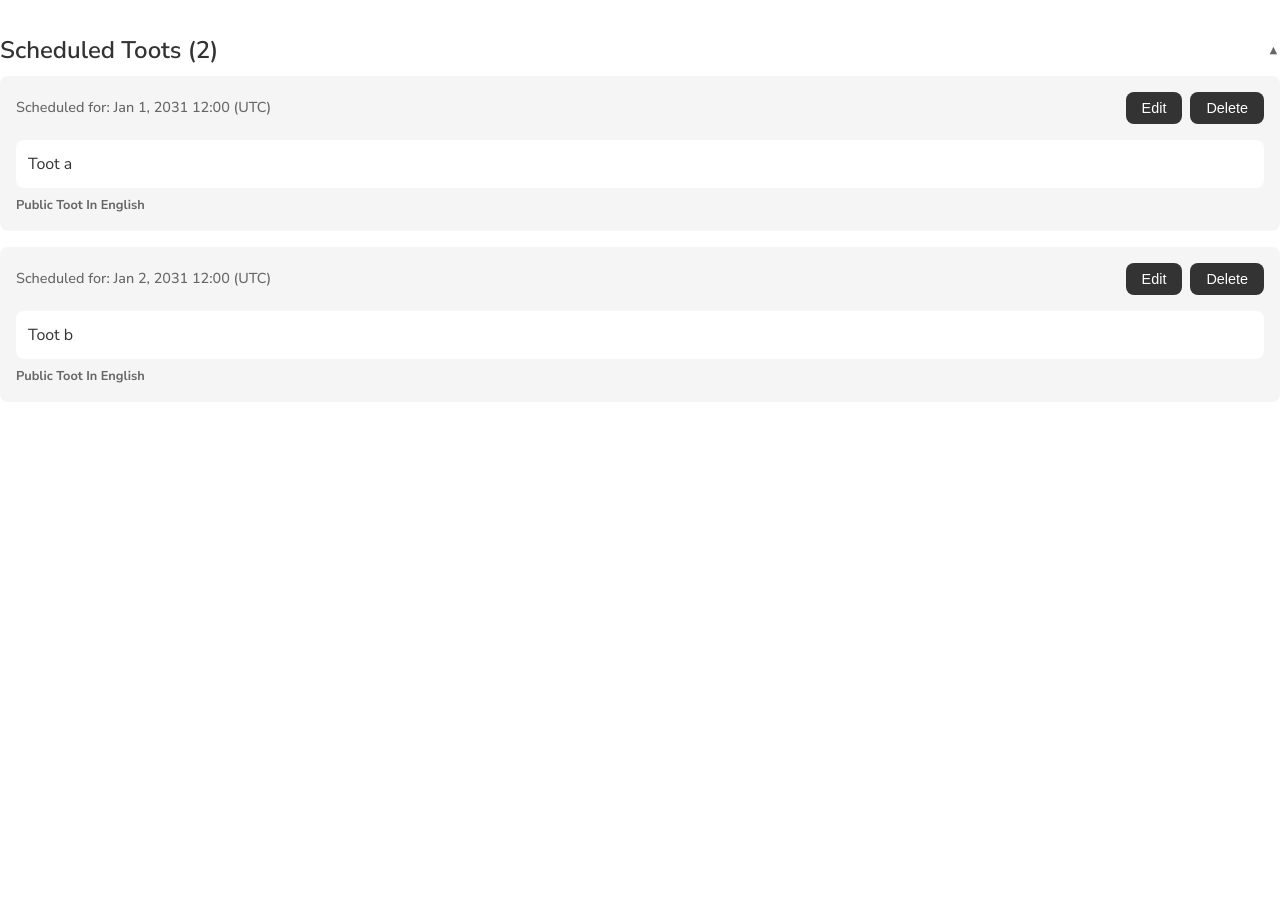
Test: ScheduledToots › with two toots › shows a failed deletion as an alert
Step 1. Click the button with class "delete-button" in the row of "Scheduled for: Jan 1, 2031 12:00 (UTC)" → (1227, 108), box [1190,92,1264,124]
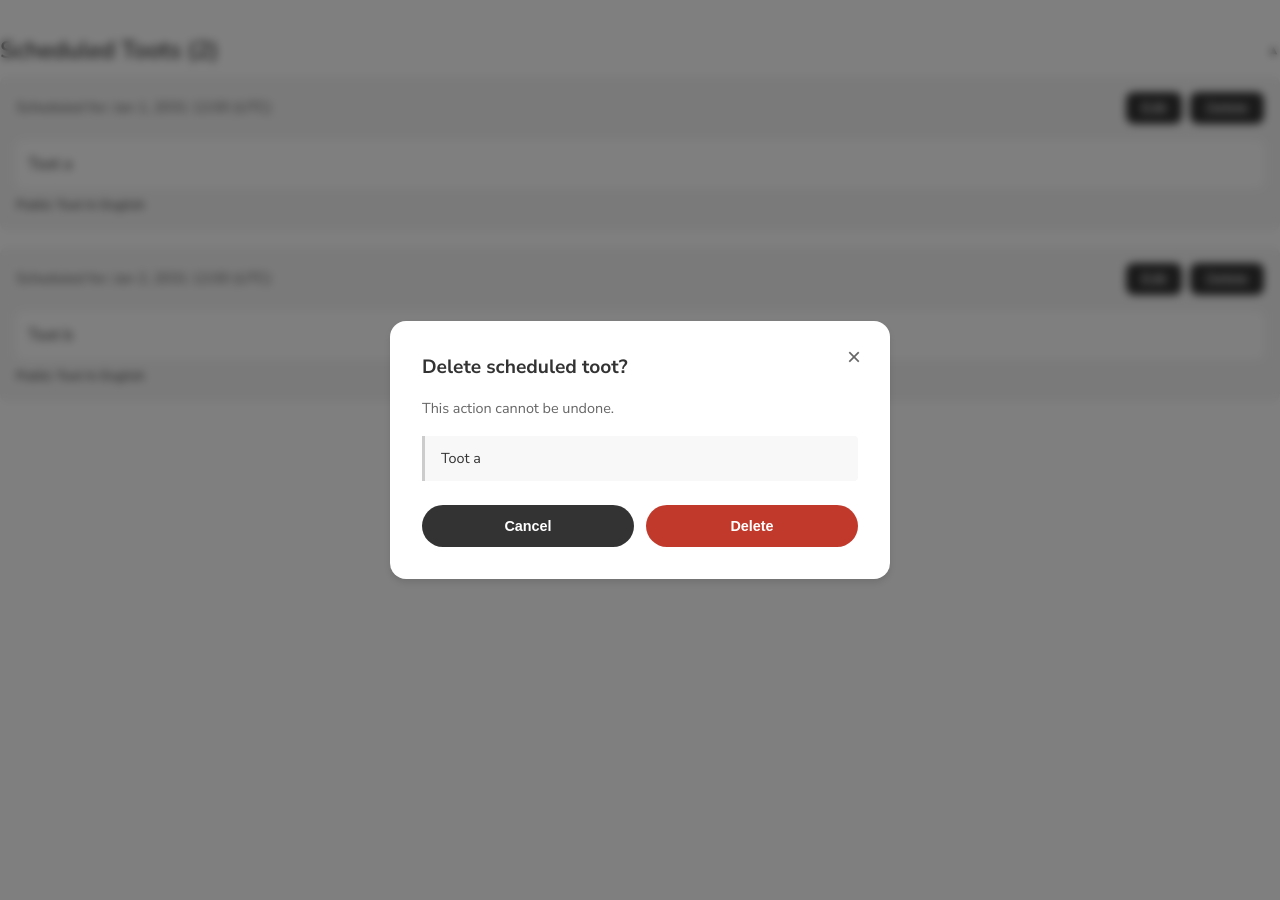
Step 2. Click the button with class "btn-delete" → (752, 526), box [646,505,858,547]
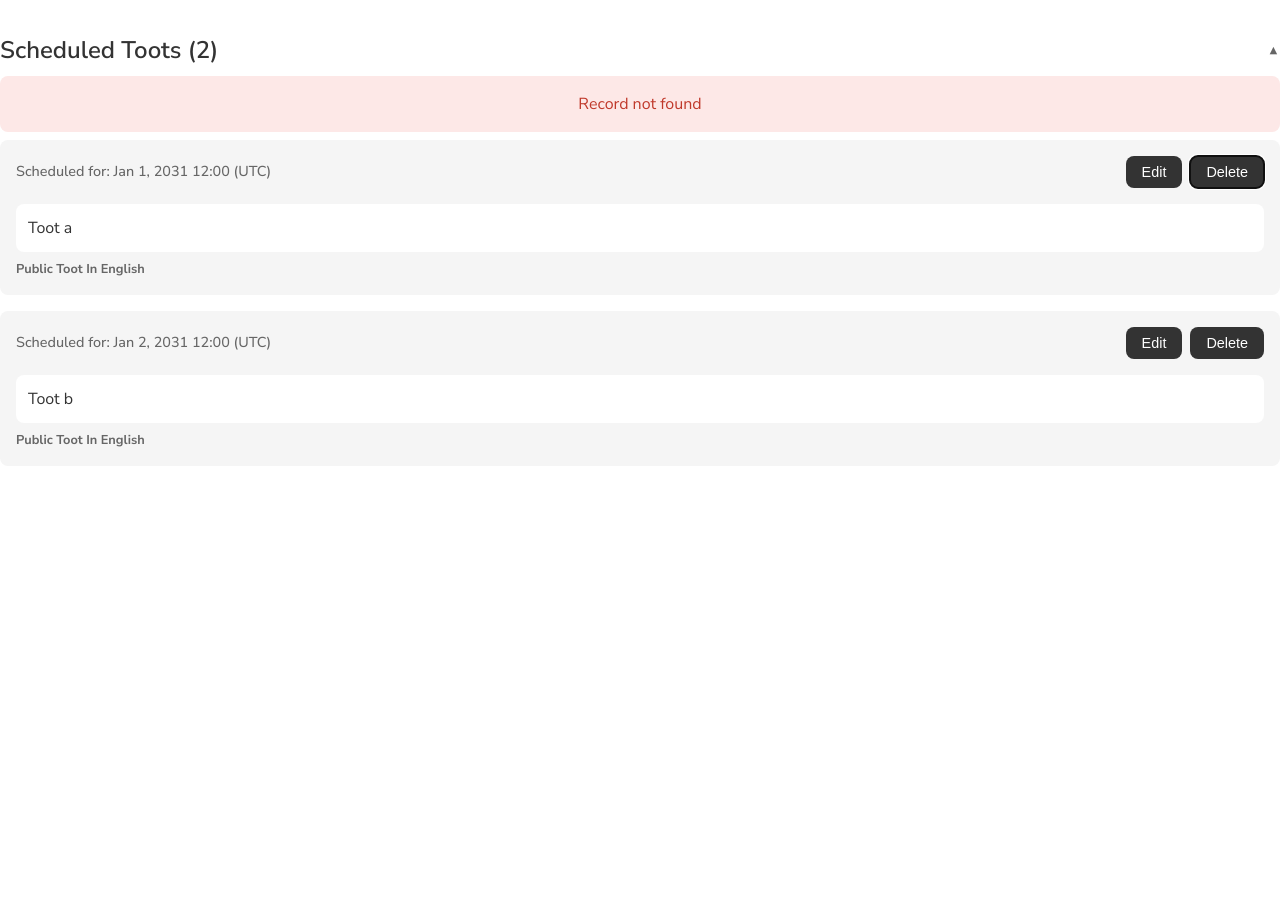
Expected: the text with class "error" reads "Record not found", [578,93,702,115]
